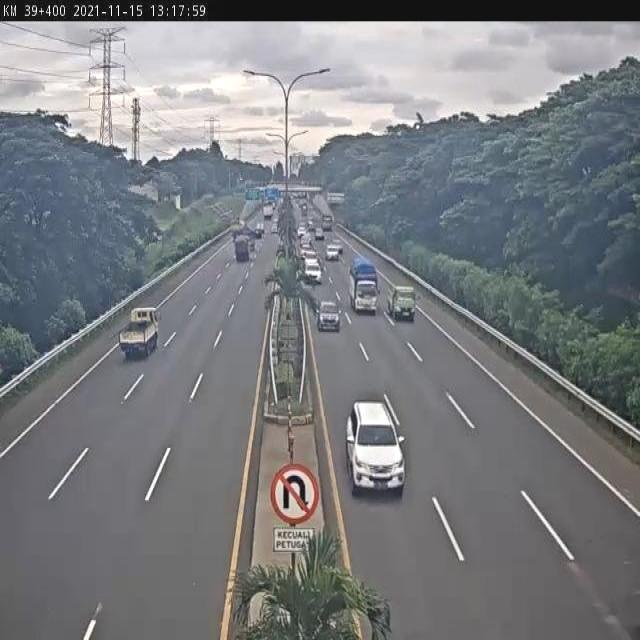Car: (346, 399, 407, 496), (387, 284, 416, 322), (317, 300, 341, 332), (303, 257, 321, 283), (326, 246, 341, 261)
Truck: (120, 307, 160, 360), (348, 255, 381, 316), (234, 235, 250, 262), (321, 213, 333, 230)
